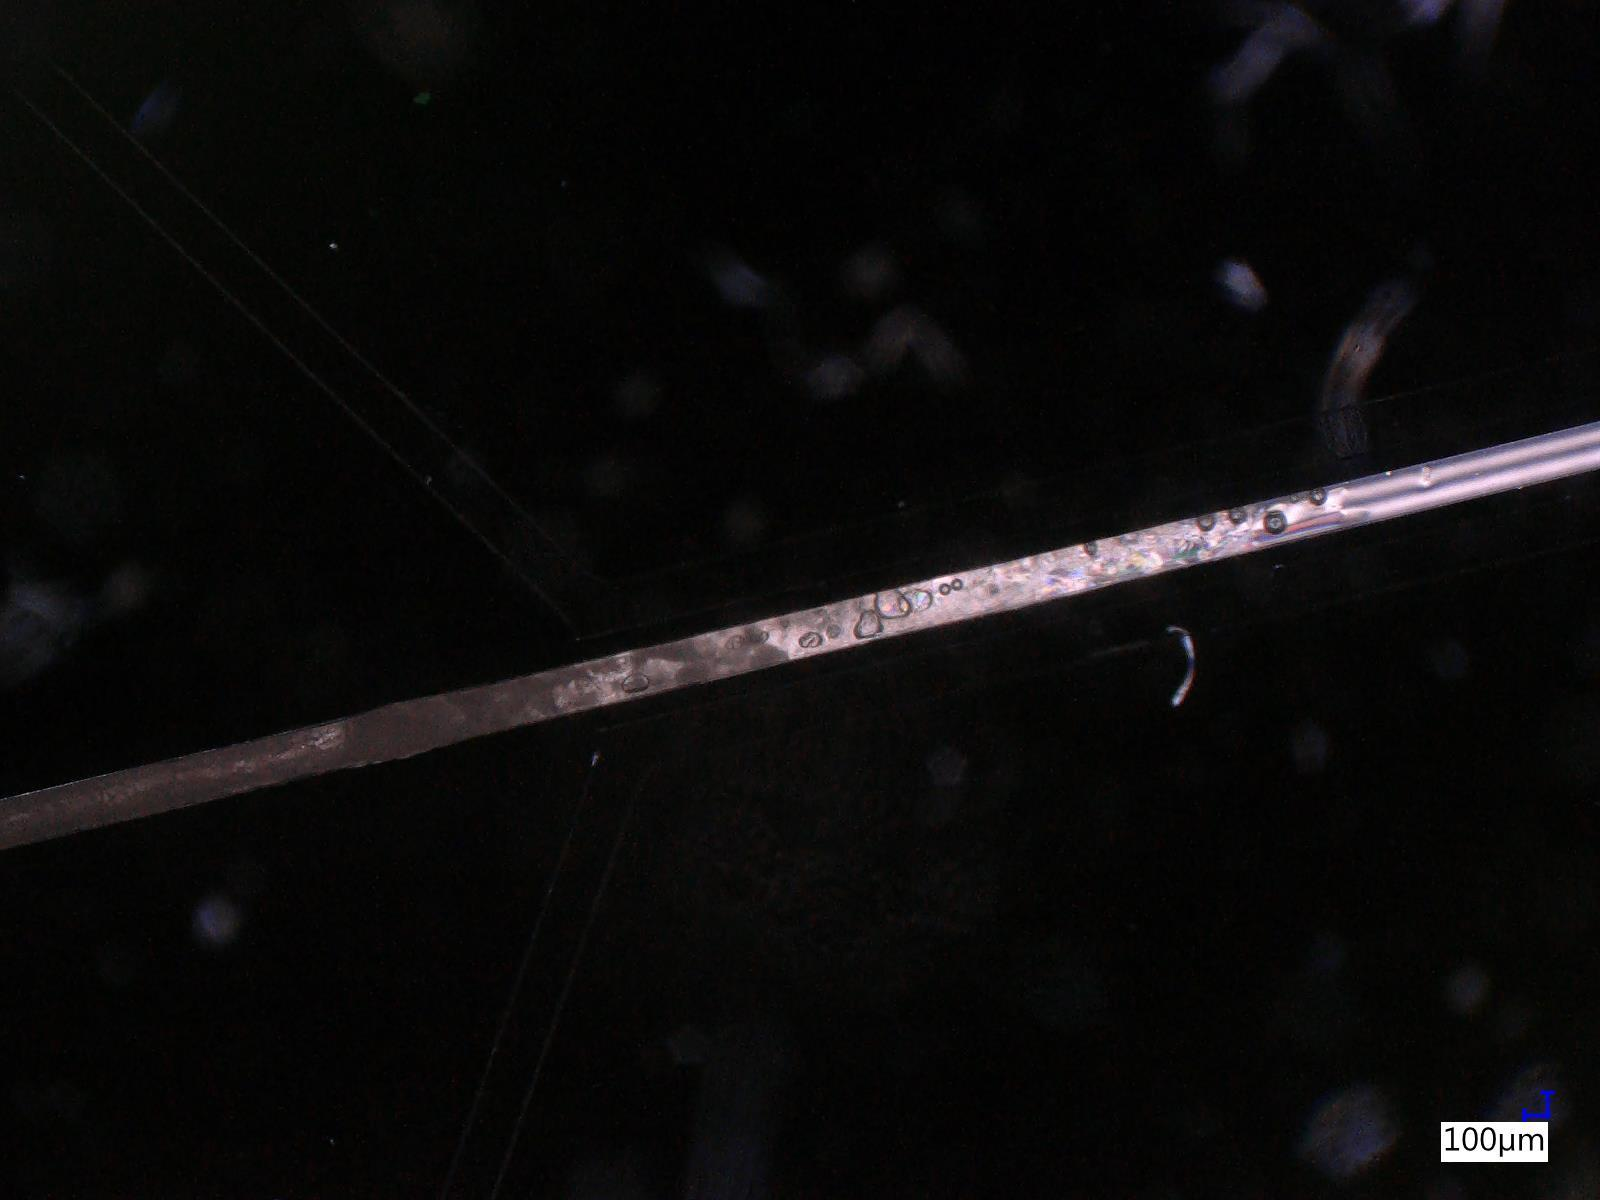sediment: (388, 655, 619, 759), (625, 616, 782, 698)
